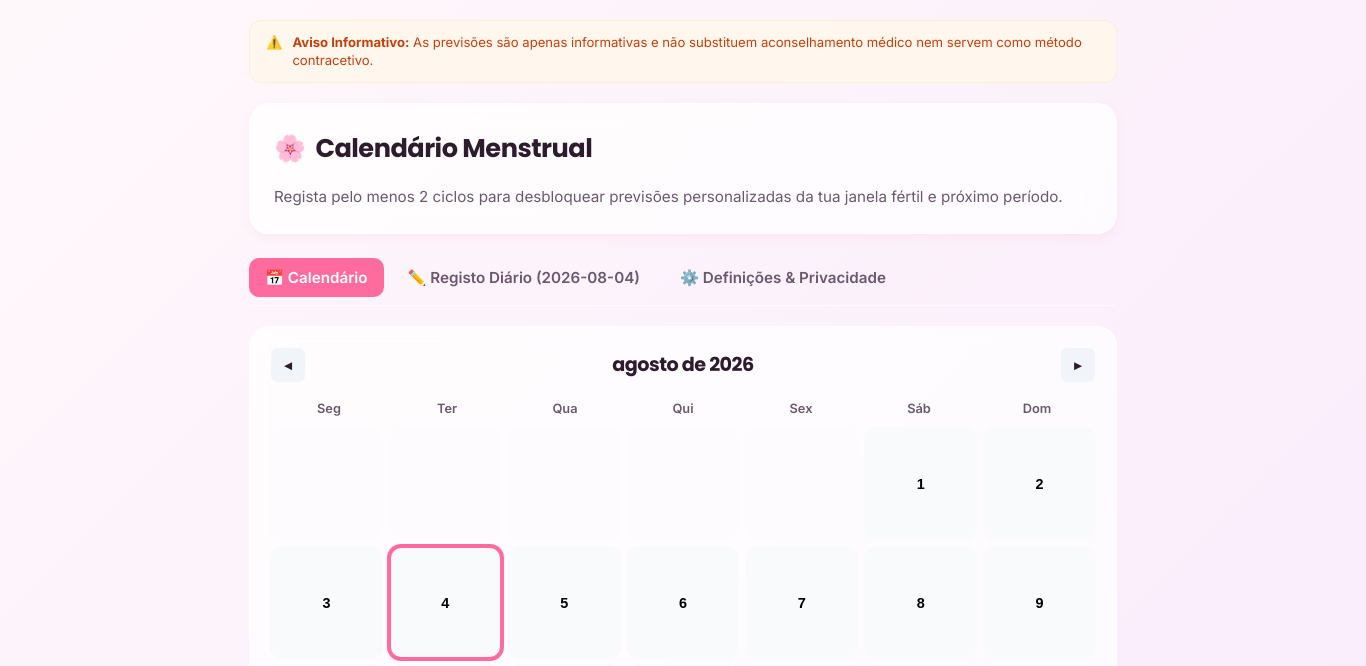
Test: CycleCalendar Page Component › o botão "Refazer Questionário de Onboarding" na aba de definições reabre o modal
This screenshot has width=1366, height=666.
Expected: the heading "🌸 Calendário Menstrual" is shown, [274,128,592,169]
# Ir para a aba de definições
Click the button "⚙️ Definições & Privacidade". click: (783, 278)
box: [664,258,902,297]
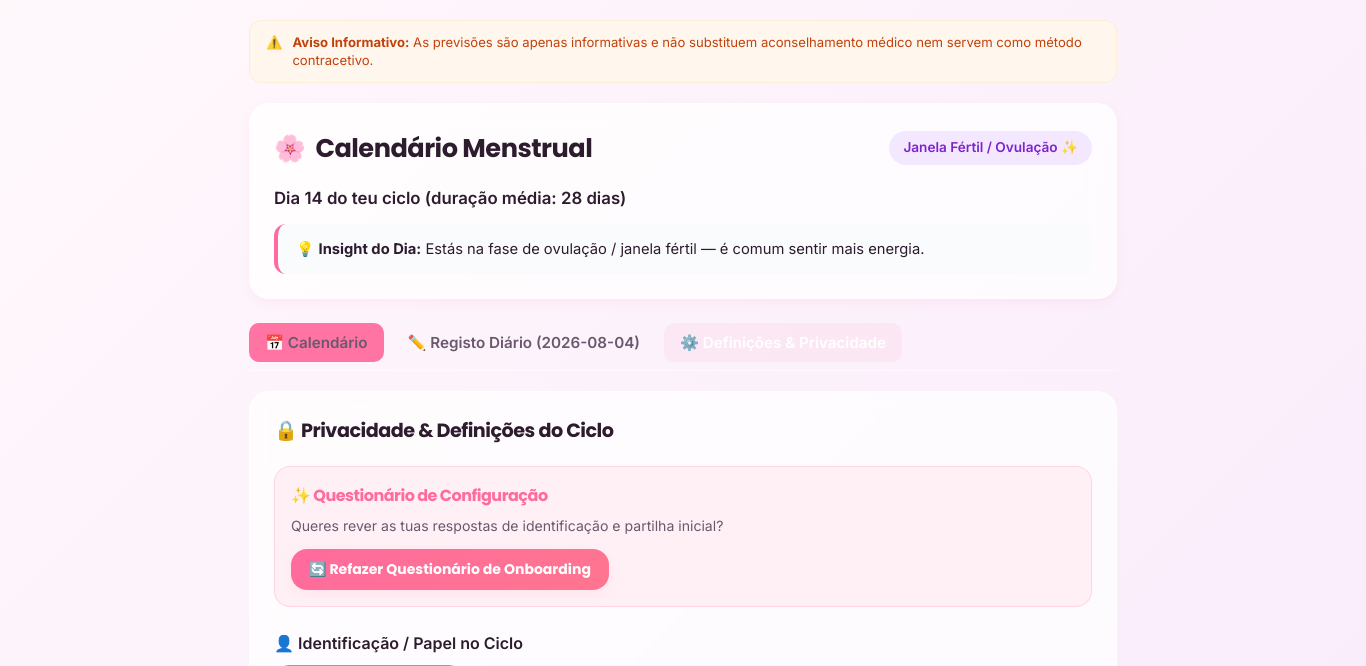
# Clicar em Refazer Questionário
Click the button "🔄 Refazer Questionário de Onboarding". click: (450, 570)
box: [291,550,609,590]
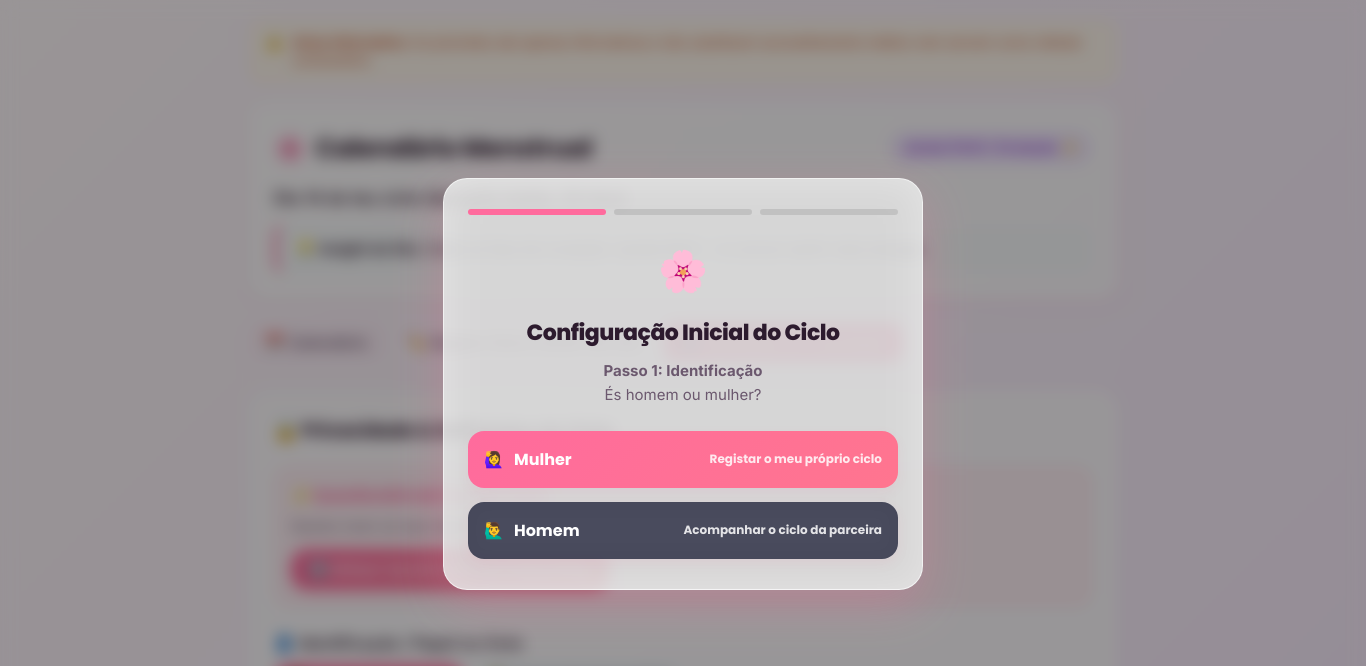
Now the heading "Configuração Inicial do Ciclo" is shown, box [526,317,840,348]
